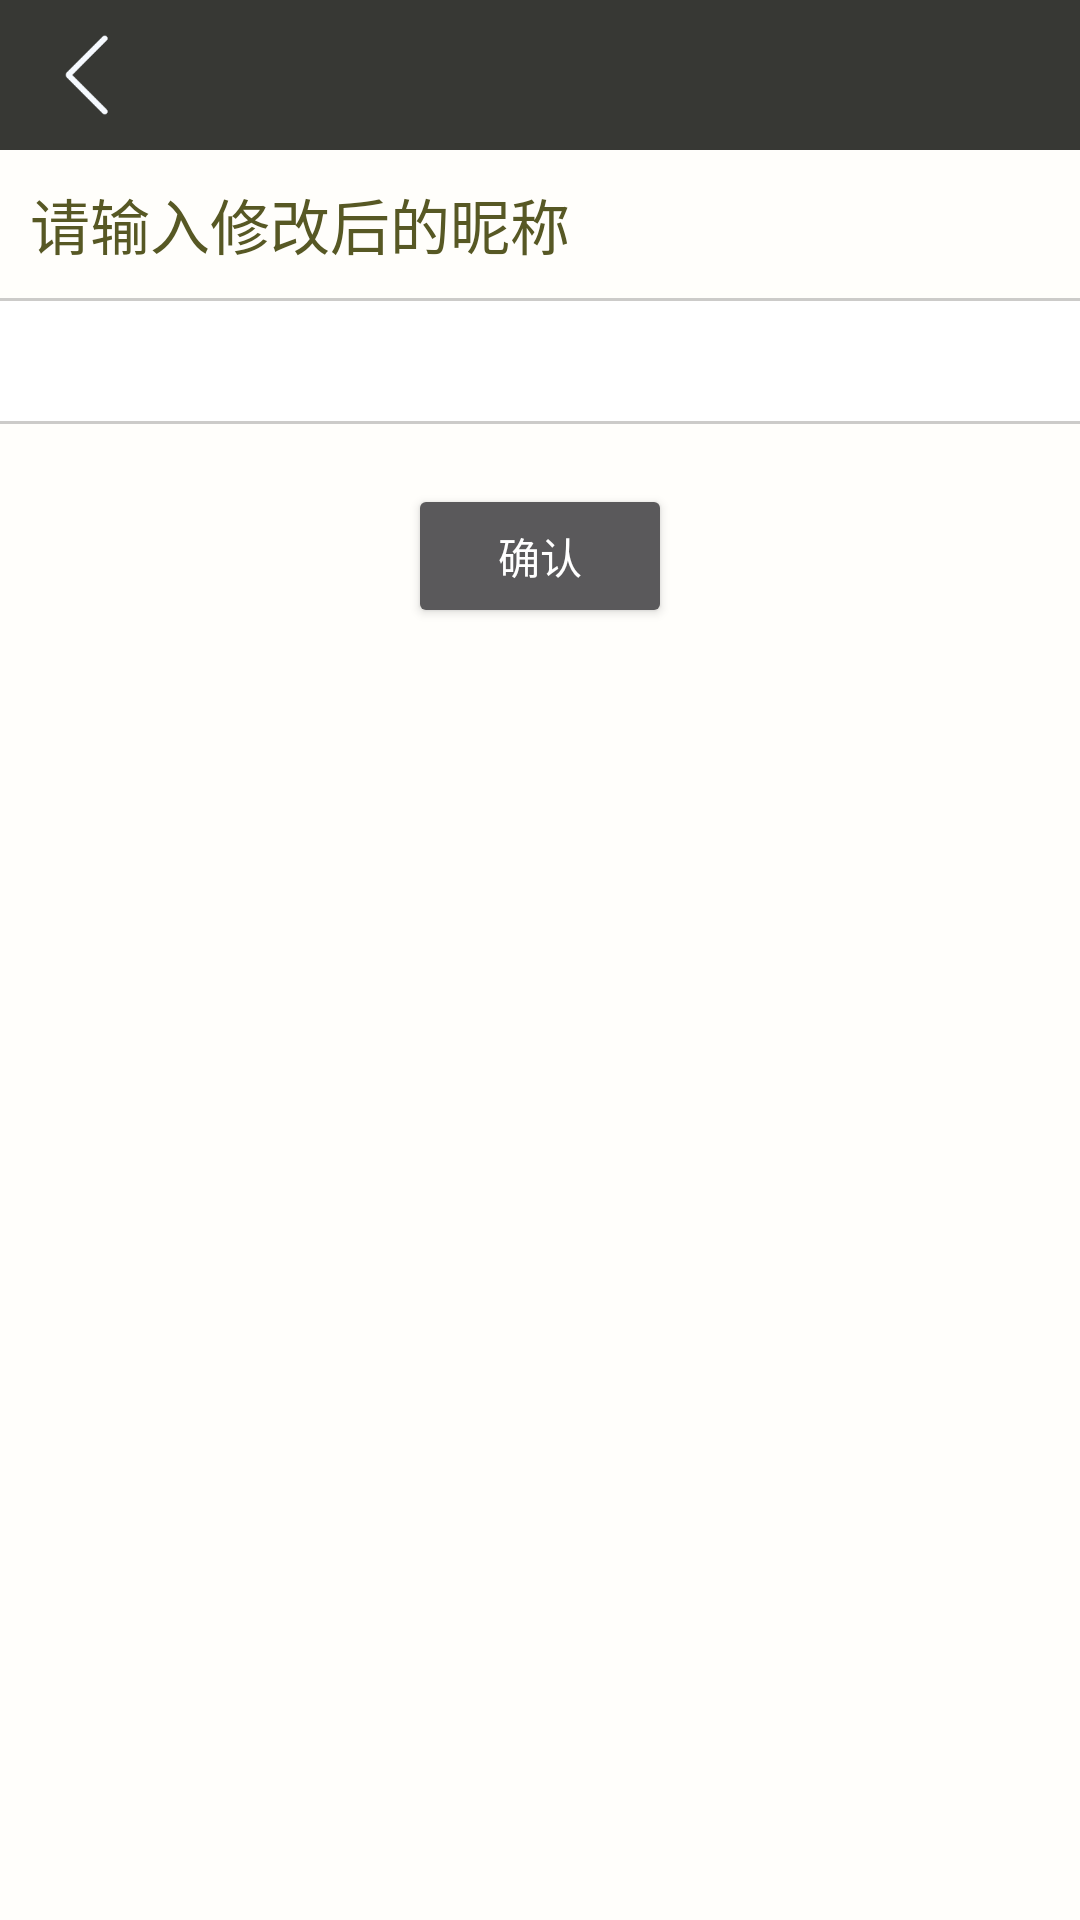

Screen size 1080px x 1920px. Icon name, then its box in pixels as (x1, y1, x2, y2):
back: (65, 35, 108, 115)
